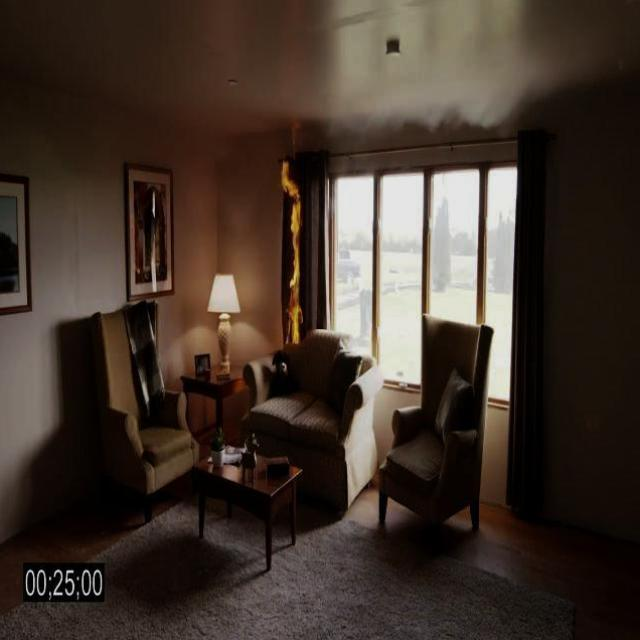fire: (328, 35, 630, 132)
smoke: (276, 152, 306, 347)
